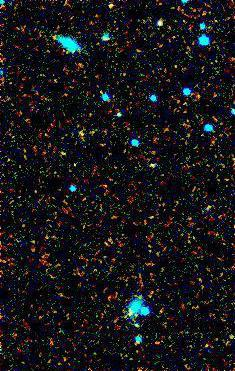star: (100, 0, 130, 24)
